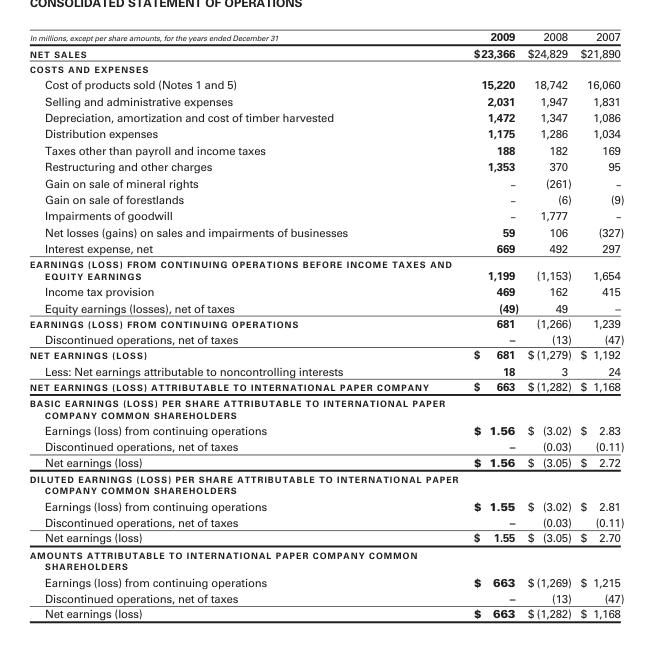table: (28, 29, 623, 619)
table column: (28, 29, 461, 619), (461, 29, 522, 619), (522, 29, 575, 619), (575, 29, 623, 619)
table column header: (28, 29, 623, 44)
table projected row header: (28, 395, 623, 421), (28, 471, 623, 497), (28, 546, 623, 572), (28, 61, 623, 75)
table row: (28, 257, 623, 283), (28, 395, 623, 421), (28, 471, 623, 497), (28, 546, 623, 572), (28, 453, 623, 471), (28, 44, 623, 61), (28, 75, 623, 92), (28, 108, 623, 125), (28, 141, 623, 158), (28, 190, 623, 207), (28, 223, 623, 240), (28, 240, 623, 257), (28, 378, 623, 395), (28, 421, 623, 438), (28, 497, 623, 514), (28, 529, 623, 546), (28, 572, 623, 589), (28, 92, 623, 108), (28, 125, 623, 141), (28, 158, 623, 174), (28, 174, 623, 190), (28, 207, 623, 223), (28, 283, 623, 299), (28, 299, 623, 315), (28, 330, 623, 346), (28, 346, 623, 362), (28, 362, 623, 378), (28, 589, 623, 605), (28, 29, 623, 44), (28, 315, 623, 330), (28, 438, 623, 453), (28, 514, 623, 529), (28, 61, 623, 75), (28, 605, 623, 619)
